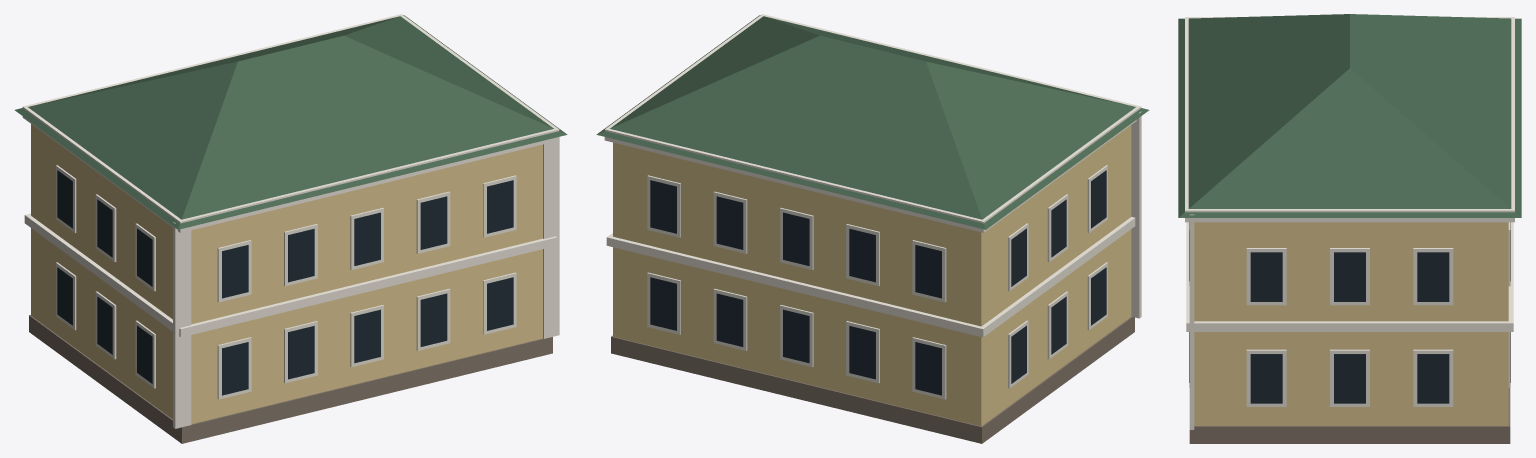
The model's file is old_yellow.glb.
3 renders of one model, left to right at view 1: azimuth 30°, elevation 25°; view 2: azimuth 150°, elevation 25°; view 3: azimuth 270°, elevation 25°, orthographic. The views are drawn at different scales.
Visible parts, largest first — view 1: old_yellow; view 2: old_yellow; view 3: old_yellow.
Boxes of the visible parts, x1,y1,x2,y2 form: old_yellow: (14, 14, 567, 443); old_yellow: (596, 14, 1149, 443); old_yellow: (1178, 14, 1521, 443).
Size of the model in its own units: 14.7 by 10.6 by 10.7.
